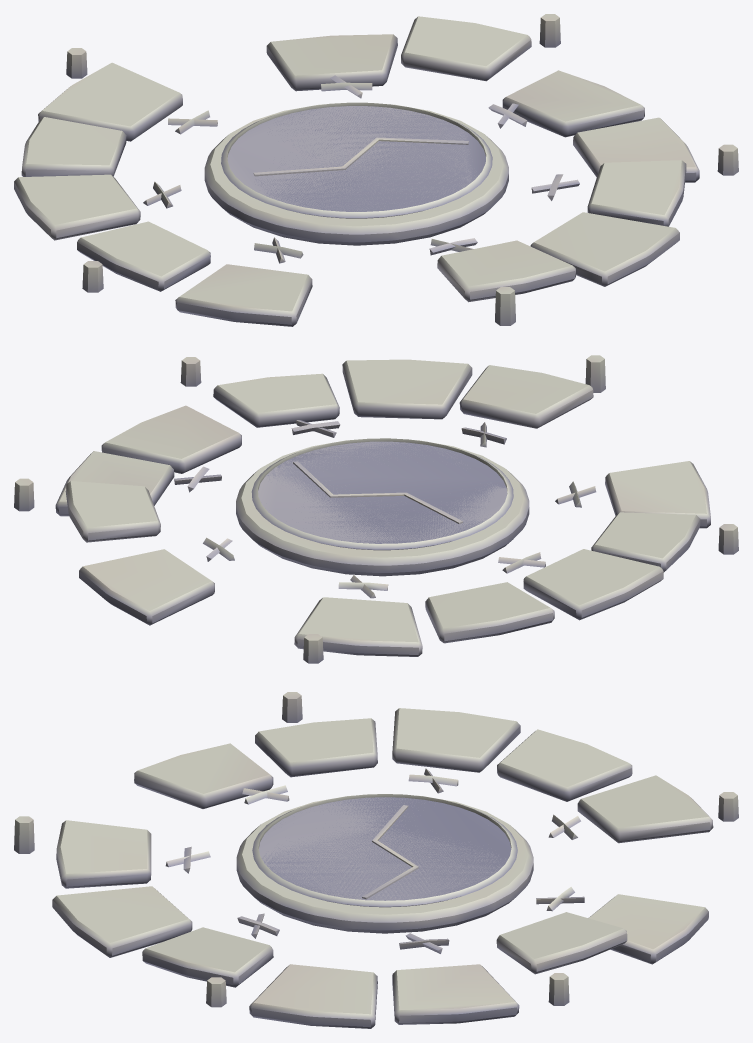
Rendered from altar.glb.
3 views of the same model, one above another, from view 1: azimuth 30°, elevation 25°; view 2: azimuth 150°, elevation 25°; view 3: azimuth 270°, elevation 25° (orthographic). The views are drawn at different scales.
Parts seen in each view (by area): view 1: altar; view 2: altar; view 3: altar.
Part boxes in pixels (x1=…): altar: x1=14, y1=14, x2=738, y2=326; altar: x1=14, y1=355, x2=738, y2=663; altar: x1=14, y1=692, x2=738, y2=1028.
Bounding box in the file's own units: 3.36 × 0.2779 × 3.49.
